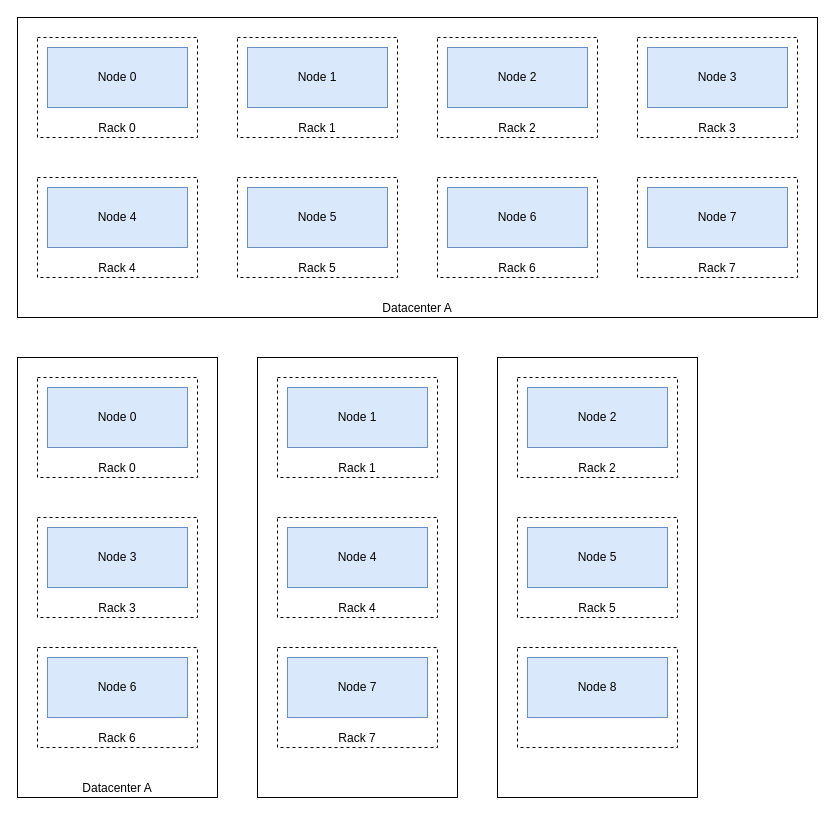
Some shapes in this 835 by 815 pixel diagram are drawn without their labels. The box of each missing label's shape, as (x1, y1, x2, y2) in pixels:
Datacenter B: (256, 356, 458, 798)
Datacenter C: (496, 356, 698, 798)
Rack 8: (516, 646, 678, 748)
